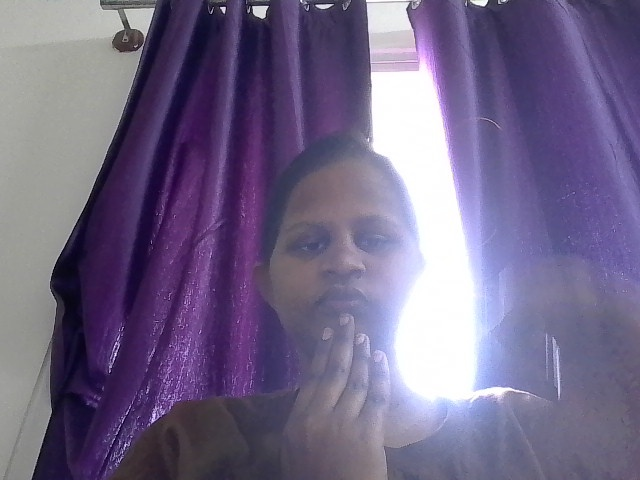THANK YOU: (204, 284, 524, 480)
